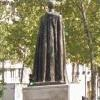Statue: (25, 5, 76, 89)
